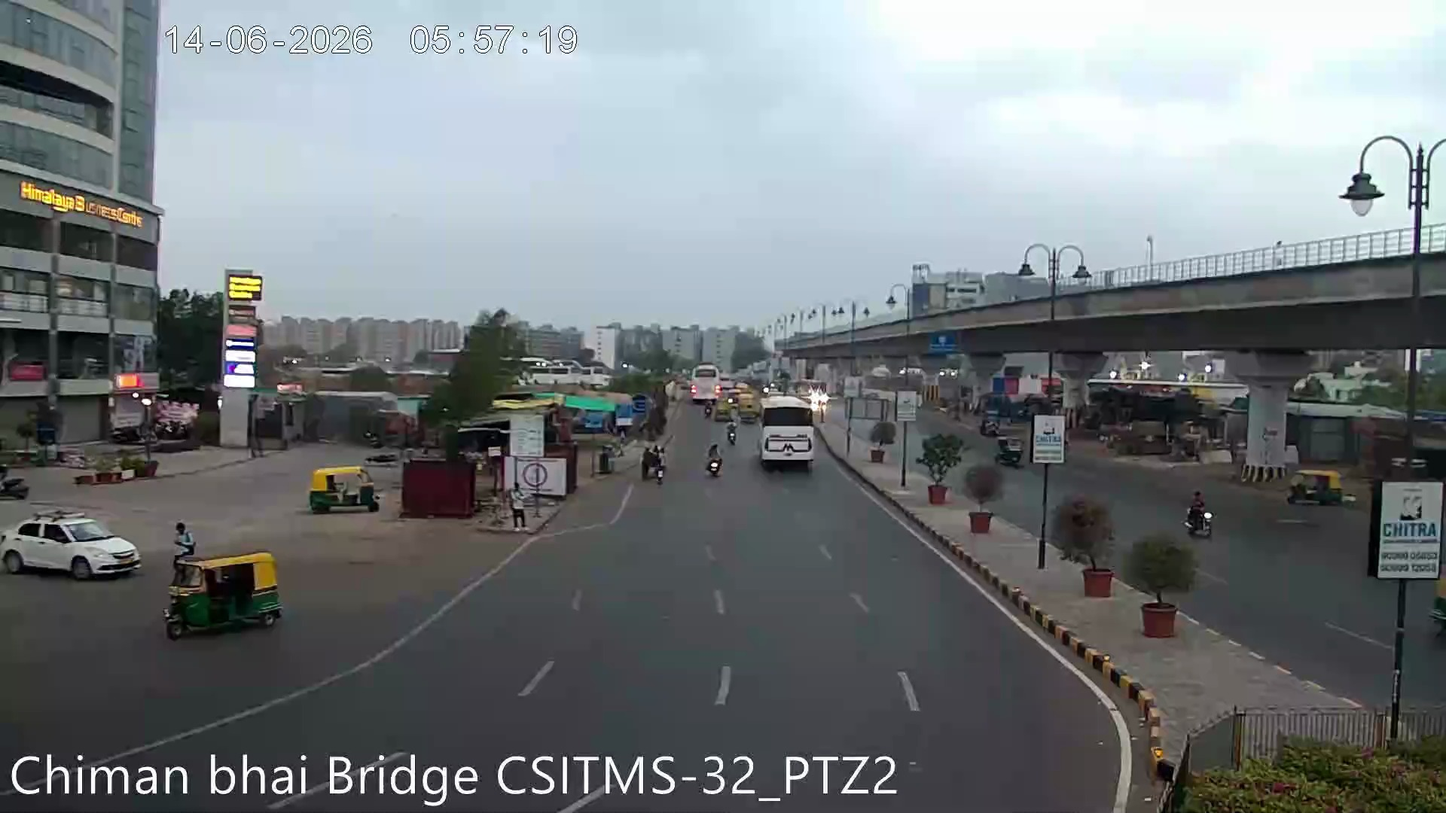auto_rickshaw: (162, 541, 286, 636), (305, 458, 381, 516), (1287, 464, 1347, 508), (1430, 562, 1446, 643), (994, 434, 1024, 470)
bus: (756, 421, 817, 474), (688, 360, 723, 401)
car: (0, 502, 143, 583)
pedestrian: (507, 491, 528, 535)
two_wheeler: (1181, 487, 1217, 542), (640, 439, 668, 485), (702, 439, 725, 481)
